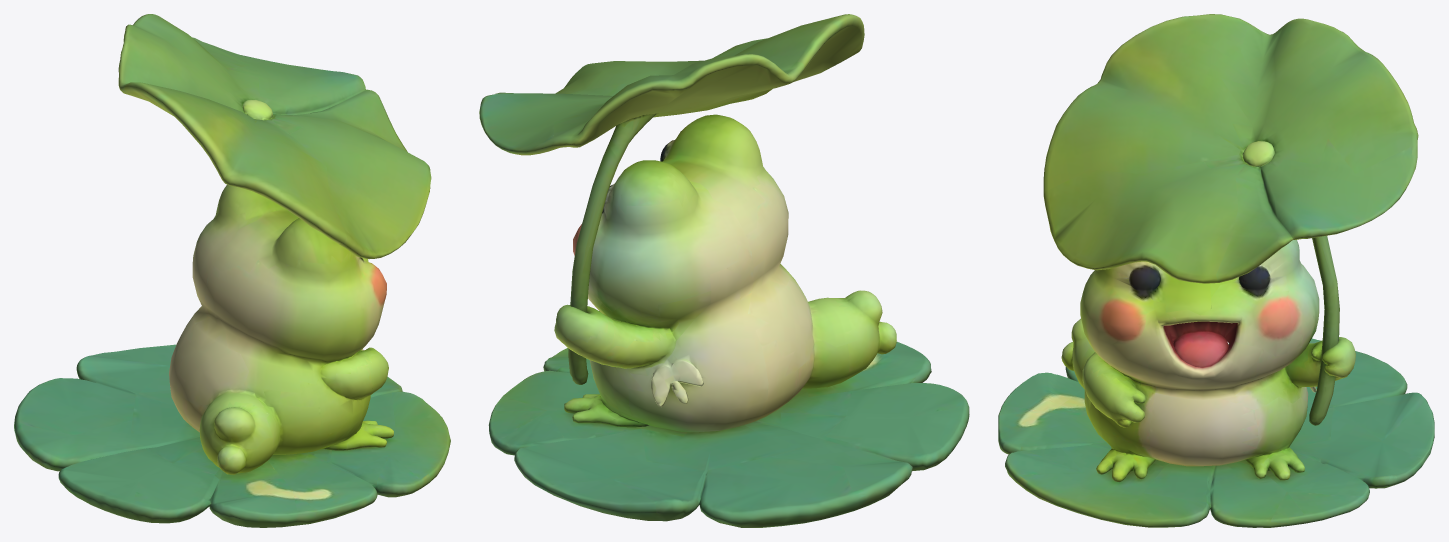
The model's file is frog-umbrella-stand.glb.
3 views of the same model, side by side, from view 1: azimuth 30°, elevation 25°; view 2: azimuth 150°, elevation 25°; view 3: azimuth 270°, elevation 25° (orthographic). The views are drawn at different scales.
Parts seen in each view (by area): view 1: tripo_node_c1a01bd9-87b3-4f09-b4a4-6947c1ff8c52; view 2: tripo_node_c1a01bd9-87b3-4f09-b4a4-6947c1ff8c52; view 3: tripo_node_c1a01bd9-87b3-4f09-b4a4-6947c1ff8c52.
Part boxes in pixels (box(x1,y1,x2,y2)): tripo_node_c1a01bd9-87b3-4f09-b4a4-6947c1ff8c52: box(14, 14, 450, 527); tripo_node_c1a01bd9-87b3-4f09-b4a4-6947c1ff8c52: box(479, 14, 969, 527); tripo_node_c1a01bd9-87b3-4f09-b4a4-6947c1ff8c52: box(998, 14, 1434, 527).
Bounding box in the file's own units: 0.9669 × 0.9902 × 0.998.
1 material, 1 textured.
